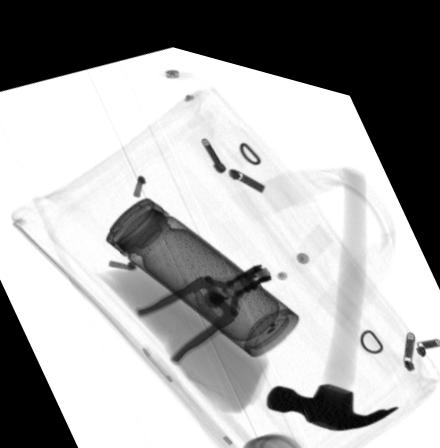Hammer: (264, 148, 397, 415)
Pliers: (136, 248, 270, 356)
